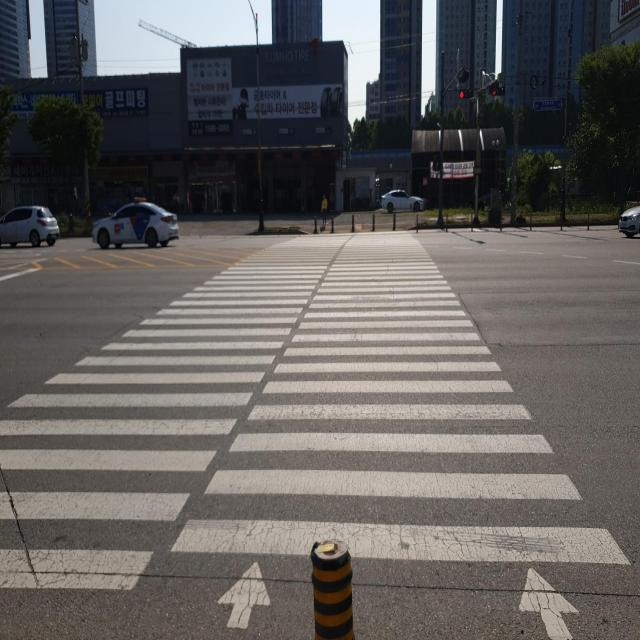횡단보도: (0, 226, 634, 640)
